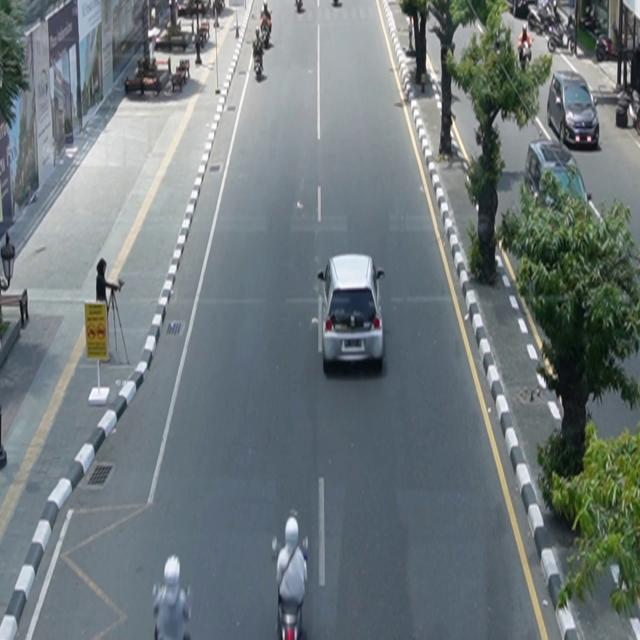car: (318, 253, 387, 371), (548, 70, 601, 150)
